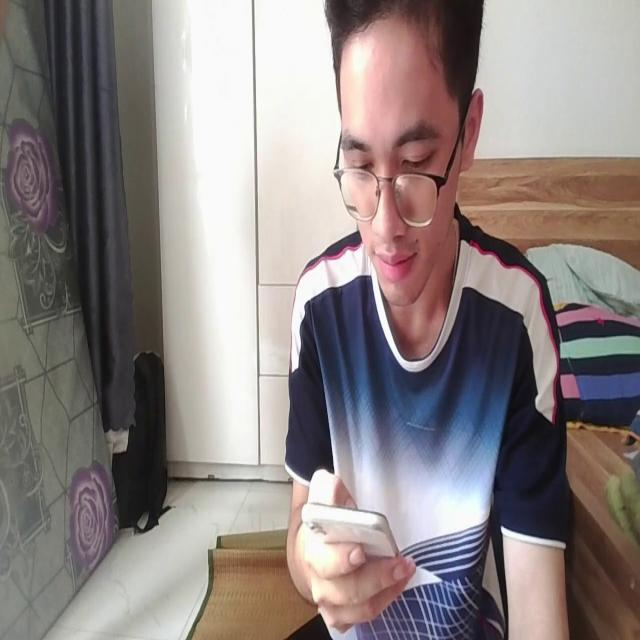phone: (298, 482, 399, 572)
student: (283, 19, 576, 640)
